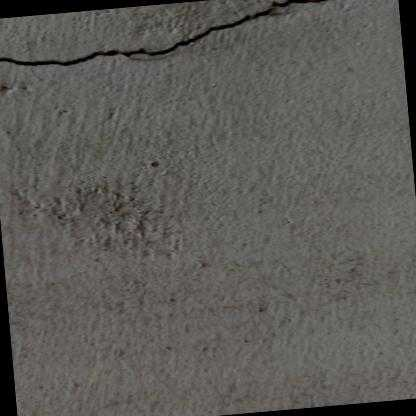crack: (0, 0, 329, 66)
